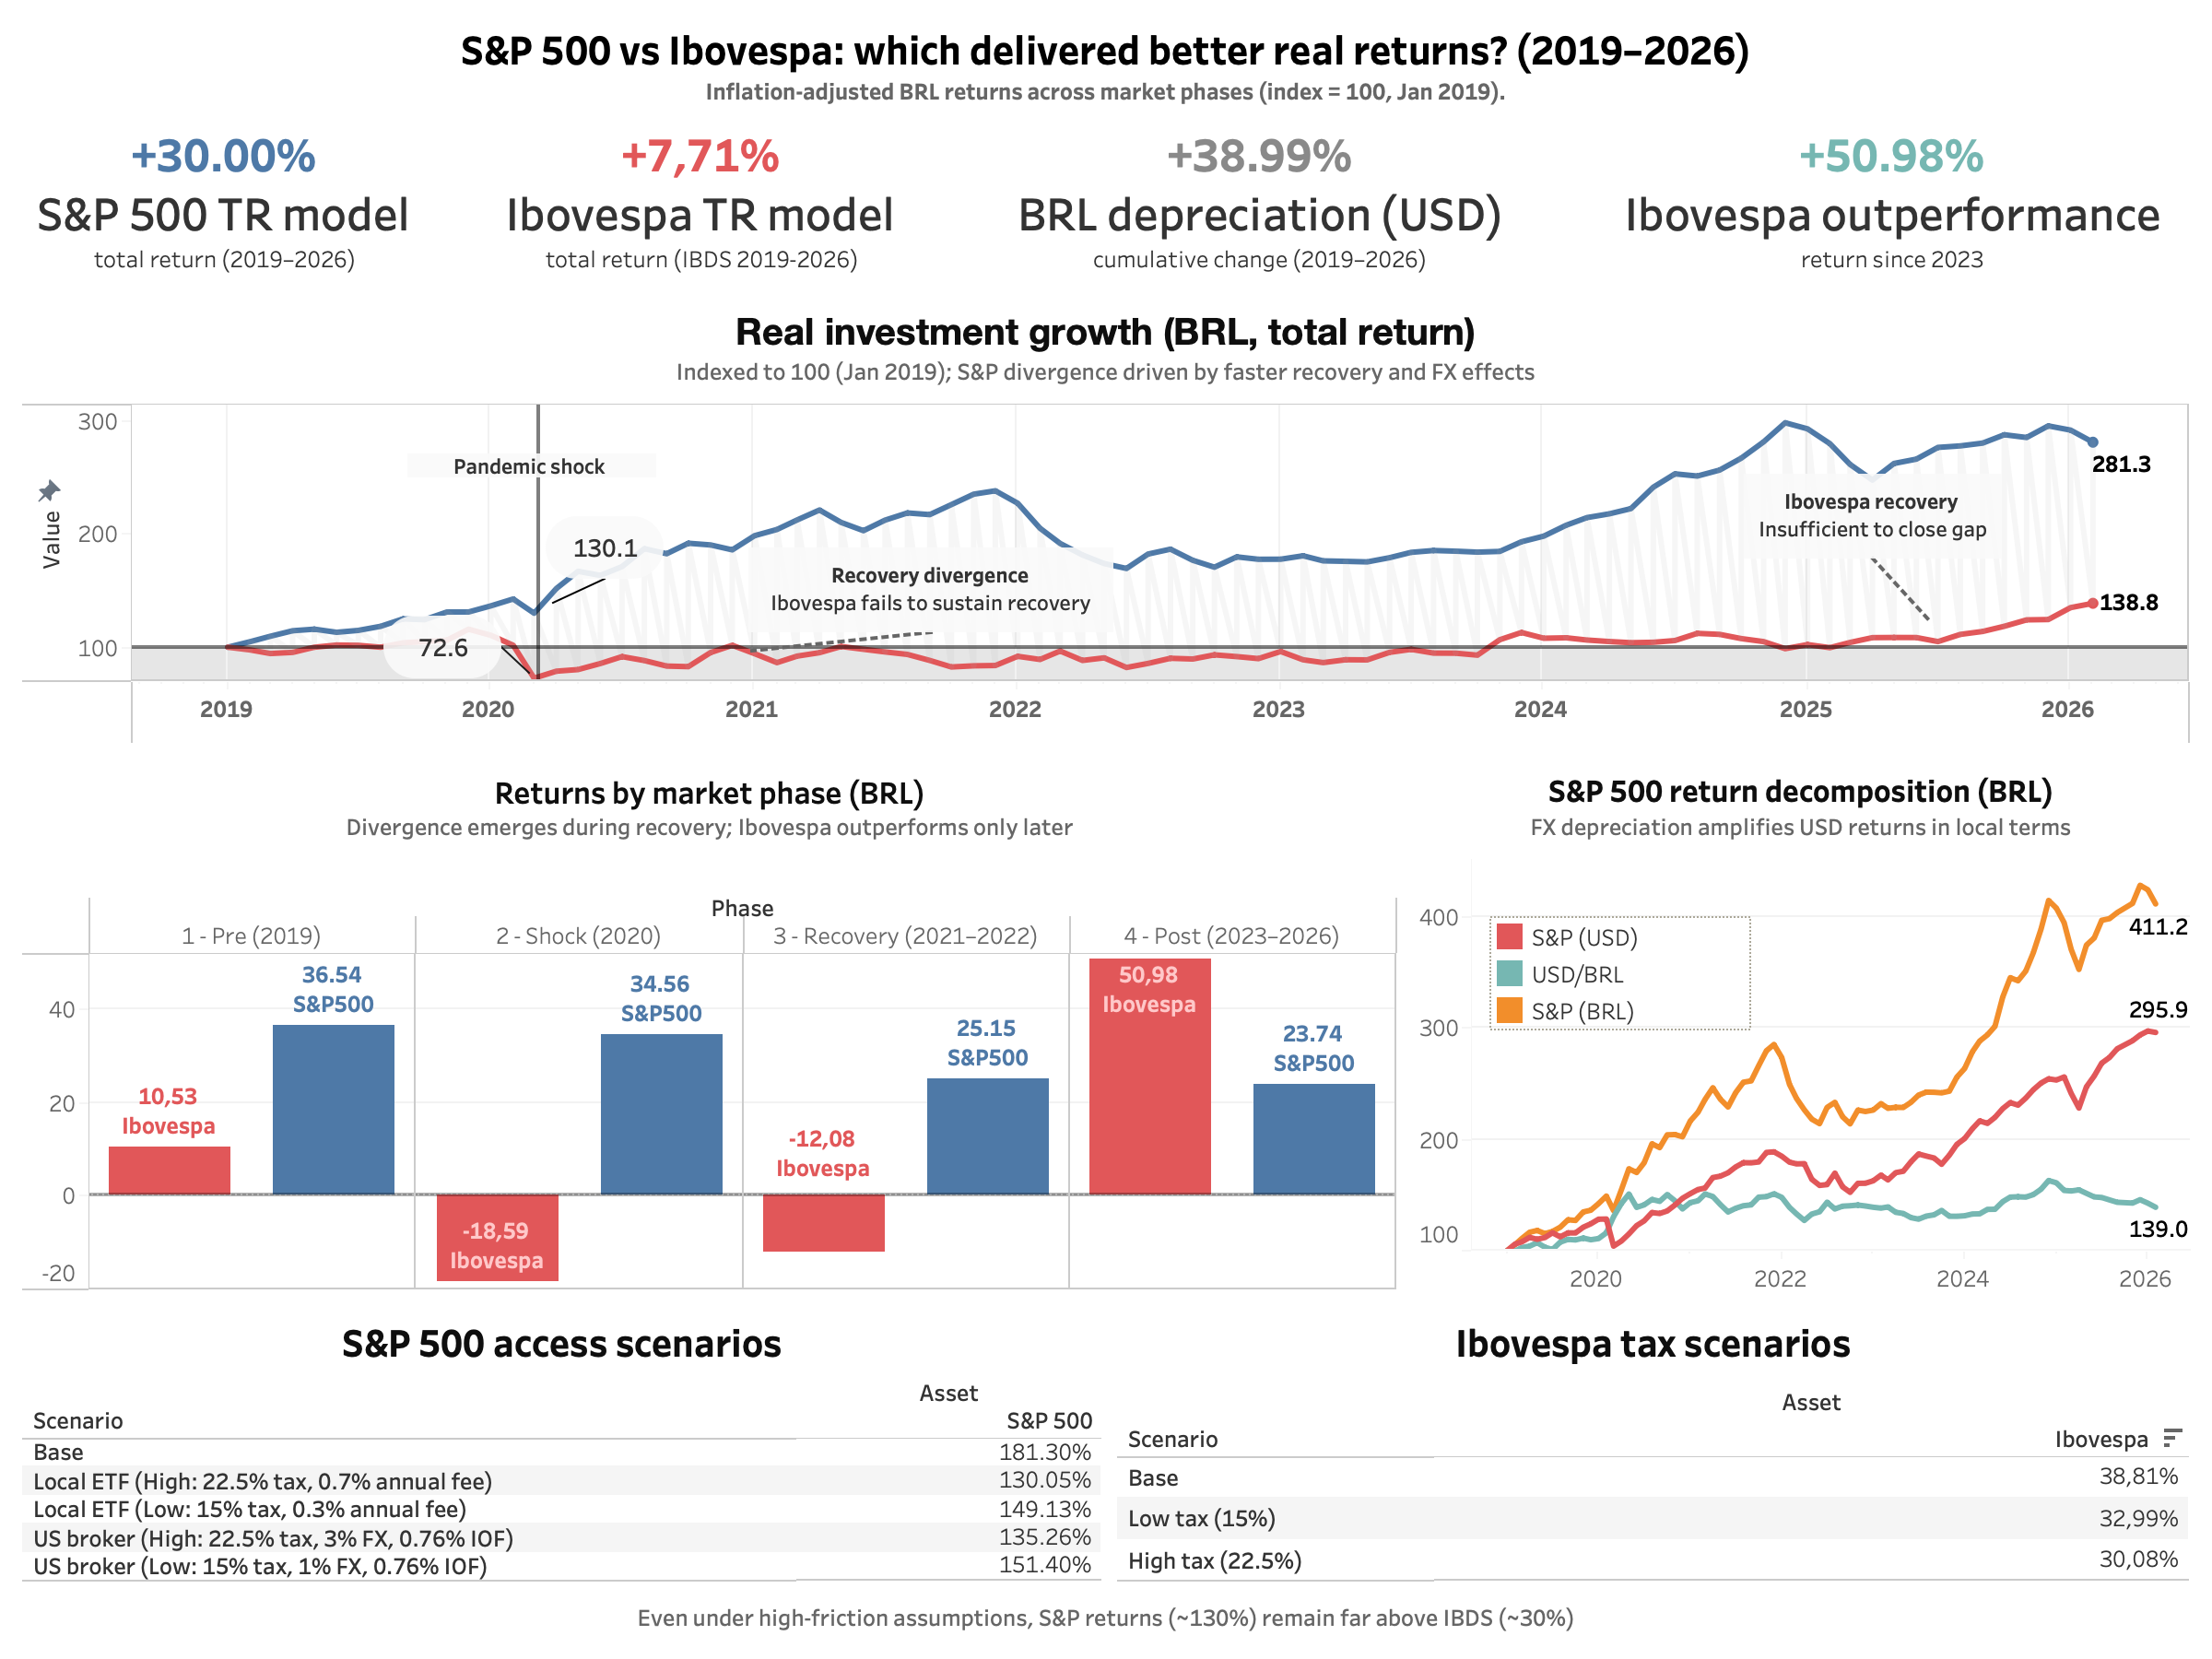

The dashboard page shown, as its layout file describes it:
{"tool":"tableau","page":{"name":"S&P 500 vs Ibovespa (2019-2026)","canvas":[1200,900],"ordinal":0},"visuals":[{"type":"text","box":[8,8,1184,55]},{"type":"worksheet","title":"(extra) s&p tr","mark":"Automatic","box":[8,63,249,94]},{"type":"worksheet","title":"(extra) ibds real","mark":"Automatic","box":[257,63,283,94]},{"type":"worksheet","title":"(extra) fx","mark":"Automatic","box":[540,63,333,94]},{"type":"worksheet","title":"(extra) phase4","mark":"Automatic","box":[873,63,319,94]},{"type":"worksheet","title":"real_investment_growth","mark":"Line","cols":["month_date"],"box":[8,157,1184,251]},{"type":"text","box":[8,408,754,59.8]},{"type":"worksheet","title":"return_decomposition","mark":"Automatic","cols":["month_date"],"box":[762,408,430,296]},{"type":"worksheet","title":"returns_by_market_phase","mark":"Bar","cols":["phase"],"box":[8,467.8,754,236.2]},{"type":"legend","title":"return_decomposition","param":"[federated.1m6hep20864pyu14lbx4i0tvdinw].[:Measure Names]","box":[808,497,142,62]},{"type":"worksheet","title":"friction_layer (sp500)","mark":"Automatic","rows":["scenario"],"cols":["asset"],"box":[8,704,594,158]},{"type":"worksheet","title":"friction_layer (ibds)","mark":"Automatic","rows":["scenario"],"cols":["asset"],"box":[602,704,590,158]},{"type":"text","box":[8,862,1184,30]}]}

Visuals, with their boxes in screenshot pixels (x1, y1, x2, y2), scaled from the page's 1200x900 canvas onto the 2212x1659 screenshot:
text: left=15, top=15, right=2197, bottom=116
"(extra) s&p tr" worksheet: left=15, top=116, right=474, bottom=289
"(extra) ibds real" worksheet: left=474, top=116, right=995, bottom=289
"(extra) fx" worksheet: left=995, top=116, right=1609, bottom=289
"(extra) phase4" worksheet: left=1609, top=116, right=2197, bottom=289
"real_investment_growth" worksheet (Line marks): left=15, top=289, right=2197, bottom=752
text: left=15, top=752, right=1405, bottom=863
"return_decomposition" worksheet: left=1405, top=752, right=2197, bottom=1298
"returns_by_market_phase" worksheet (Bar marks): left=15, top=863, right=1405, bottom=1298
"return_decomposition" legend: left=1489, top=916, right=1751, bottom=1030
"friction_layer (sp500)" worksheet: left=15, top=1298, right=1110, bottom=1589
"friction_layer (ibds)" worksheet: left=1110, top=1298, right=2197, bottom=1589
text: left=15, top=1589, right=2197, bottom=1644
